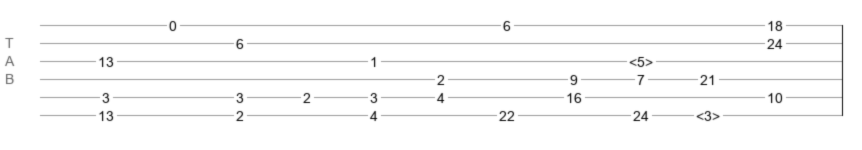0: (169, 18, 177, 28)
1: (370, 54, 378, 64)
10: (767, 90, 783, 100)
13: (98, 54, 114, 64), (98, 108, 114, 118)
16: (566, 90, 582, 100)
18: (767, 18, 783, 28)
2: (236, 108, 244, 118), (303, 90, 311, 100), (437, 72, 445, 82)
21: (700, 72, 716, 82)
22: (499, 108, 515, 118)
24: (633, 108, 649, 118), (767, 36, 783, 46)
3: (102, 90, 110, 100), (236, 90, 244, 100), (370, 90, 378, 100)
4: (370, 108, 378, 118), (437, 90, 445, 100)
6: (236, 36, 244, 46), (503, 18, 511, 28)
7: (637, 72, 645, 82)
9: (570, 72, 578, 82)
harmonic: (629, 54, 653, 64), (696, 108, 720, 118)
